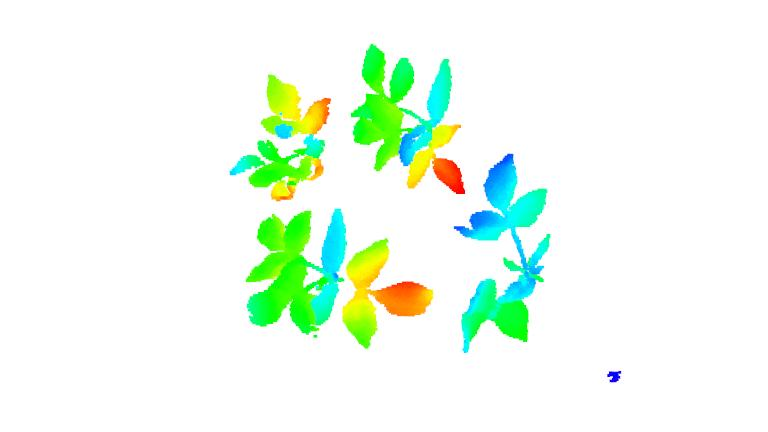mungbean: (240, 205, 437, 348), (456, 152, 552, 354), (353, 41, 475, 199), (226, 72, 337, 205)
